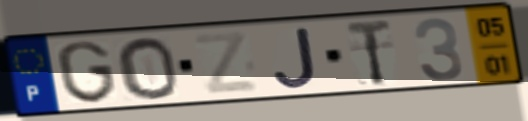3: (412, 15, 465, 82)
G: (54, 38, 121, 106)
J: (270, 25, 320, 91)
O: (113, 35, 182, 102)
T: (343, 17, 394, 89)
Z: (190, 29, 263, 97)
